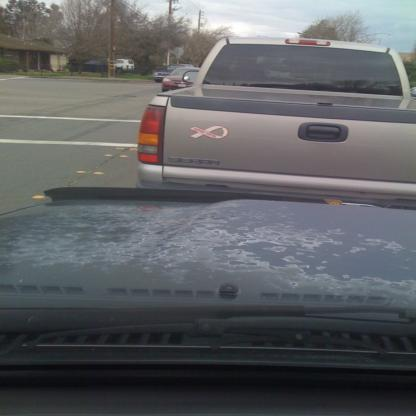Car: (0, 192, 415, 415), (162, 67, 200, 92)
Truck: (134, 37, 416, 205)
